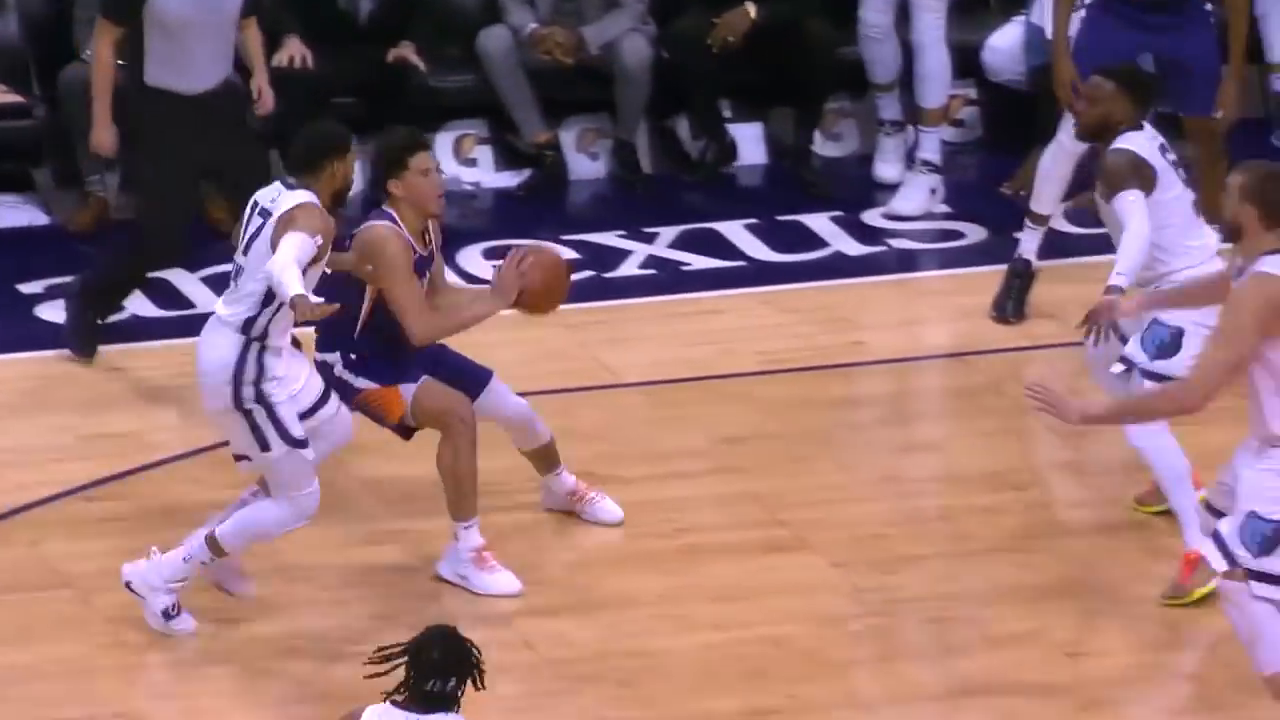ball: (499, 242, 570, 316)
